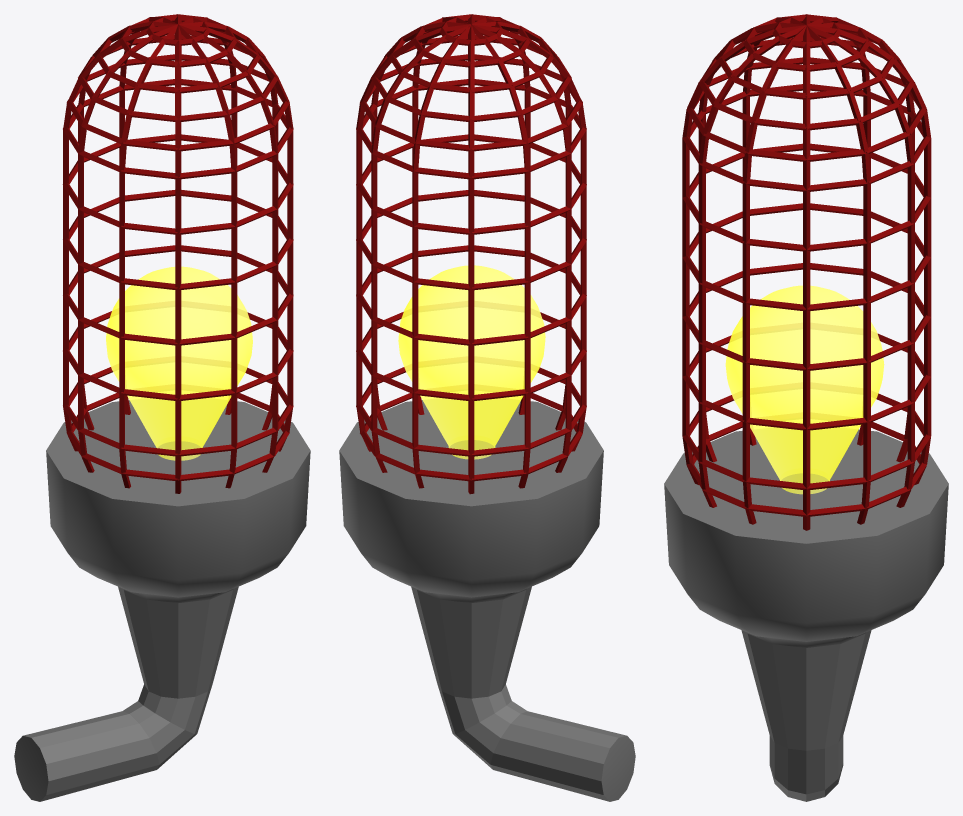
The model's file is Wall_light_cage.FBX.
3 renders of one model, left to right at view 1: azimuth 30°, elevation 25°; view 2: azimuth 150°, elevation 25°; view 3: azimuth 270°, elevation 25°, orthographic. The views are drawn at different scales.
Parts seen in each view (by area): view 1: Capsule002; view 2: Capsule002; view 3: Capsule002.
Part boxes in pixels (x1,y1,x2,y2): Capsule002: (14,14,310,801); Capsule002: (339,14,635,801); Capsule002: (664,14,948,801).
Size of the model in its own units: 25.64 by 68.67 by 22.27.
